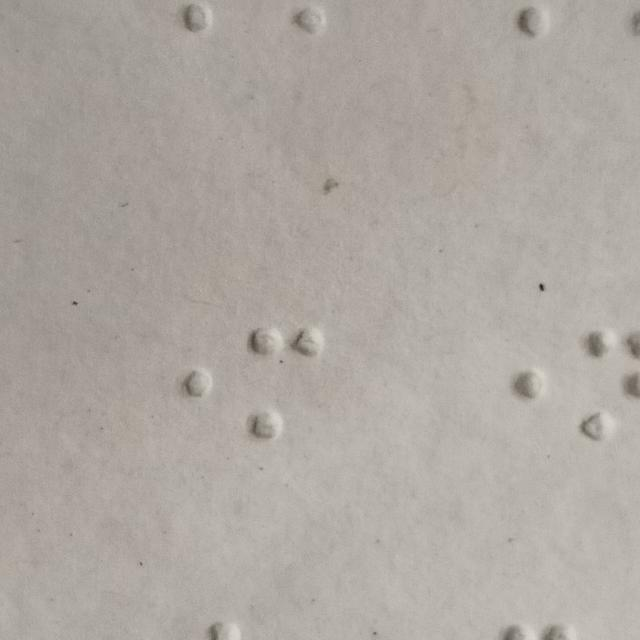dot_5: (138, 326, 211, 439)
two_cell_alphabet_mabuti: (250, 325, 323, 438)
